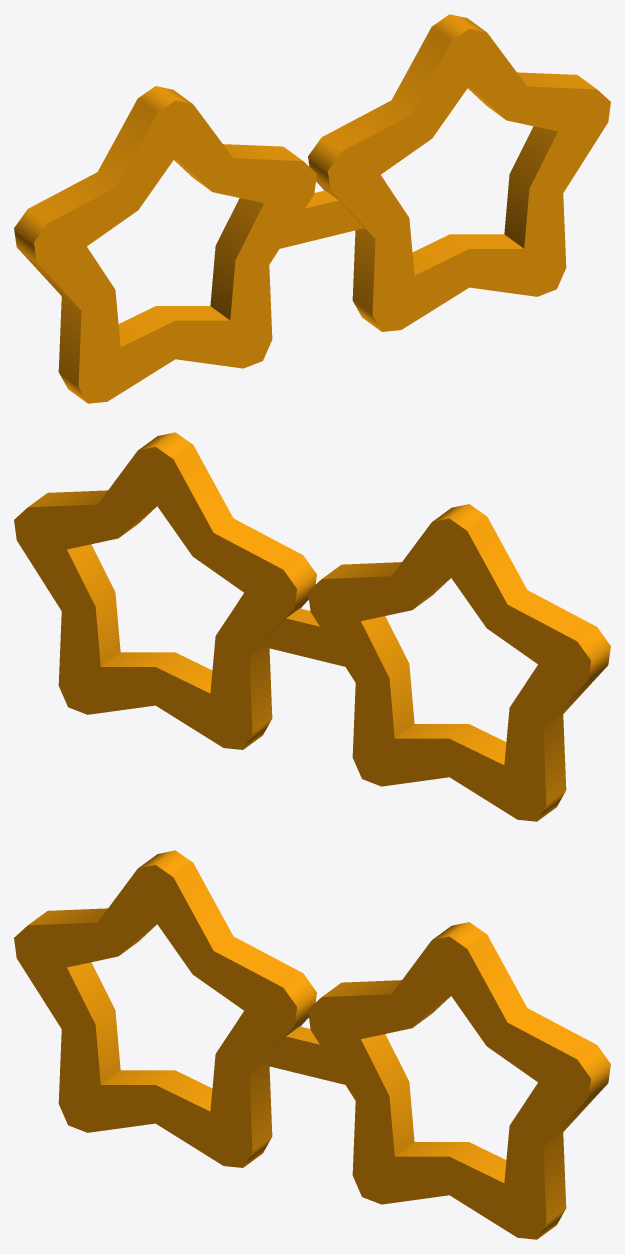
Rendered from Eyewear_8.fbx.
3 views of the same model, one above another, from view 1: azimuth 30°, elevation 25°; view 2: azimuth 150°, elevation 25°; view 3: azimuth 330°, elevation 25° (orthographic).
Parts seen in each view (by area): view 1: Eyewear_8; view 2: Eyewear_8; view 3: Eyewear_8.
Boxes of the visible parts, x1=… form: Eyewear_8: x1=14, y1=14, x2=610, y2=403; Eyewear_8: x1=14, y1=432, x2=610, y2=821; Eyewear_8: x1=14, y1=850, x2=610, y2=1239.
Bounding box in the file's own units: 47.09 × 22.2 × 2.81.
